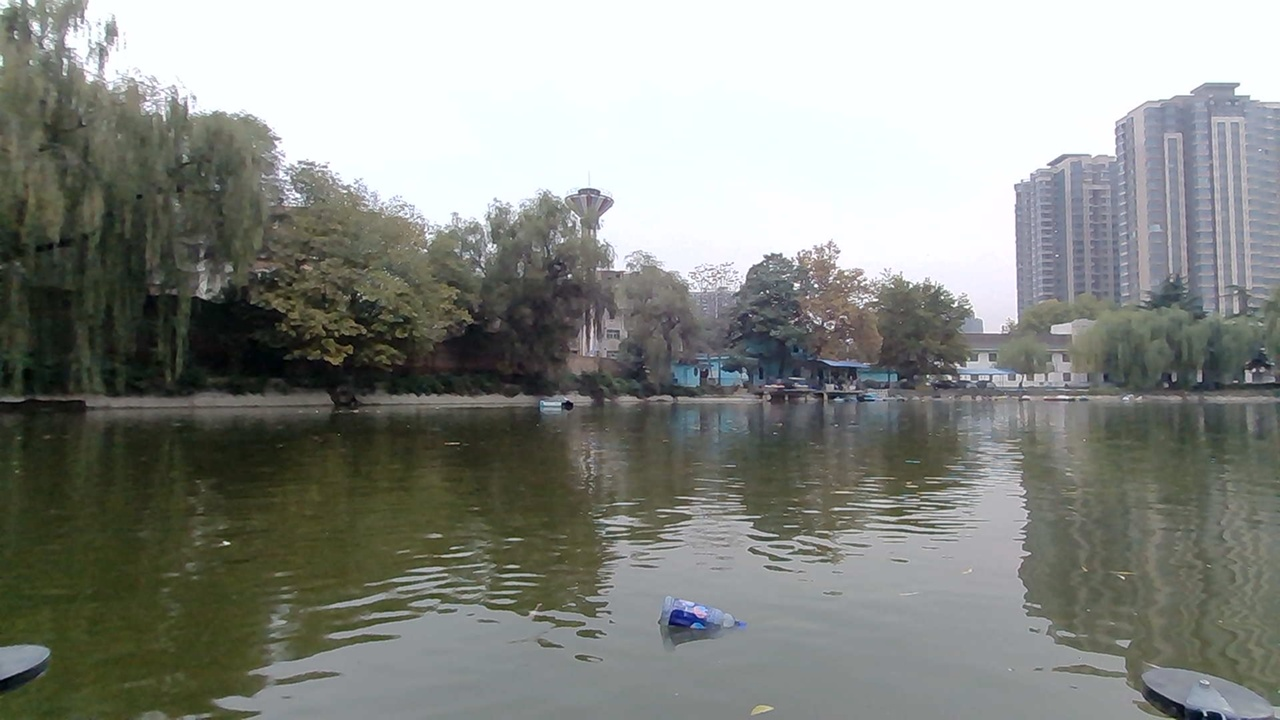bottle: (640, 588, 765, 651)
